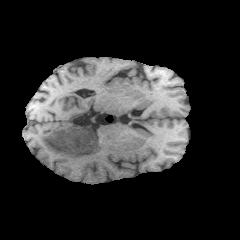glioma: (39, 125, 99, 161)
